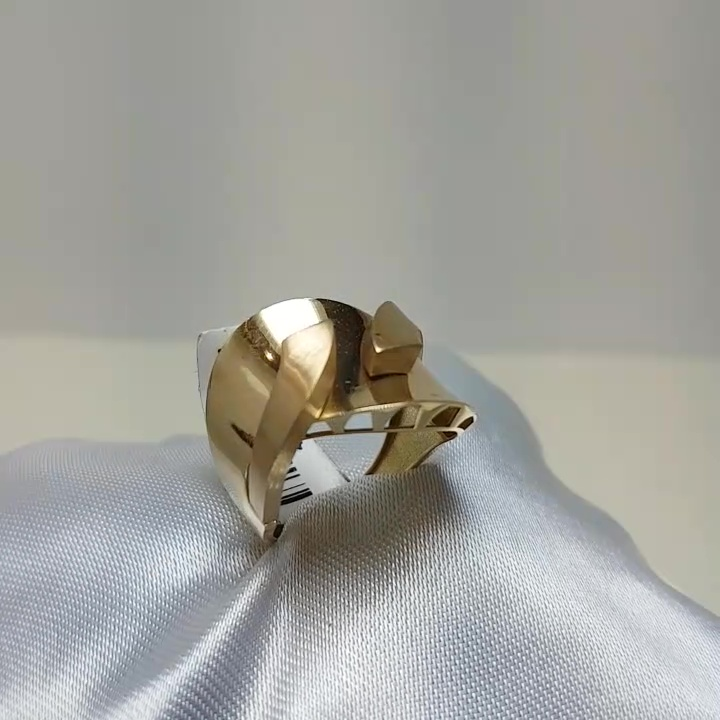Ring 4: (146, 286, 480, 544)
